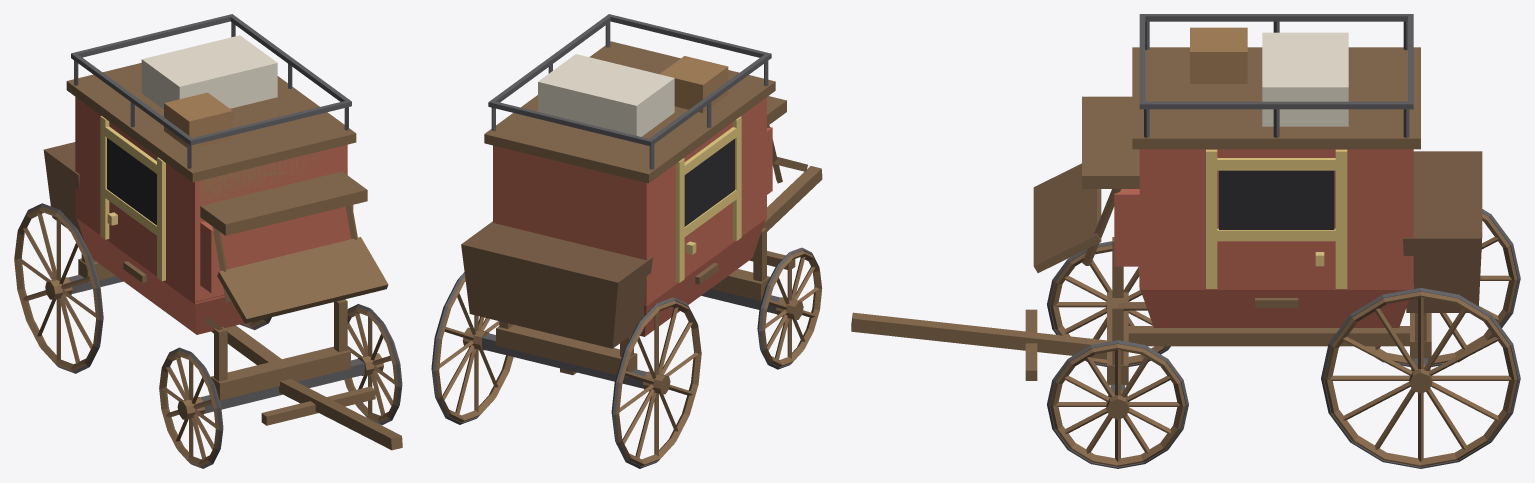
The model's file is SM_Stagecoach.glb.
The picture shows the model from 3 angles, left to right: view 1: azimuth 30°, elevation 25°; view 2: azimuth 150°, elevation 25°; view 3: azimuth 270°, elevation 25°; orthographic projection. The views are drawn at different scales.
Visible parts, largest first — view 1: SM_Stagecoach; view 2: SM_Stagecoach; view 3: SM_Stagecoach.
Boxes of the visible parts, left/top/right/bottom form: SM_Stagecoach: left=14, top=14, right=402, bottom=468; SM_Stagecoach: left=431, top=14, right=822, bottom=468; SM_Stagecoach: left=851, top=14, right=1520, bottom=468.
Bounding box in the file's own units: 1.8 × 2.79 × 4.64.
